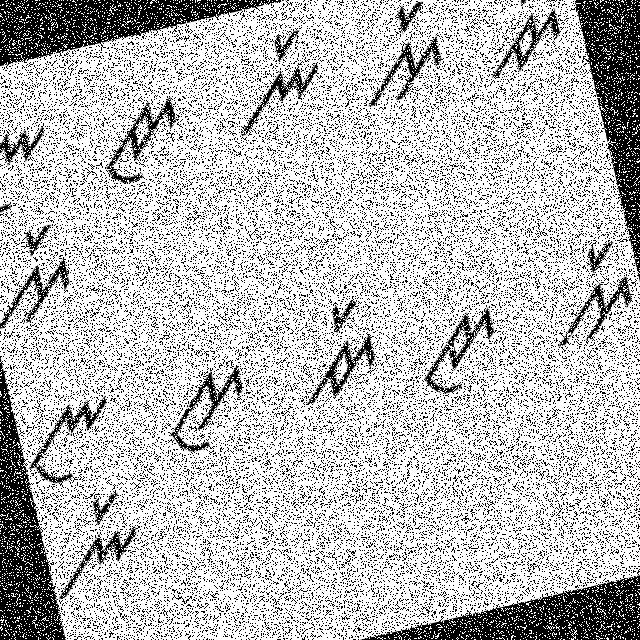jar: (278, 284, 390, 410), (469, 0, 574, 85)
jaw: (398, 292, 514, 407), (80, 87, 196, 194)
nyar: (211, 18, 335, 142), (36, 484, 150, 600)
nyaw: (15, 381, 131, 496), (0, 118, 63, 224)
sar: (528, 229, 639, 357), (348, 0, 458, 109), (0, 217, 89, 337)
saw: (150, 352, 262, 461)
